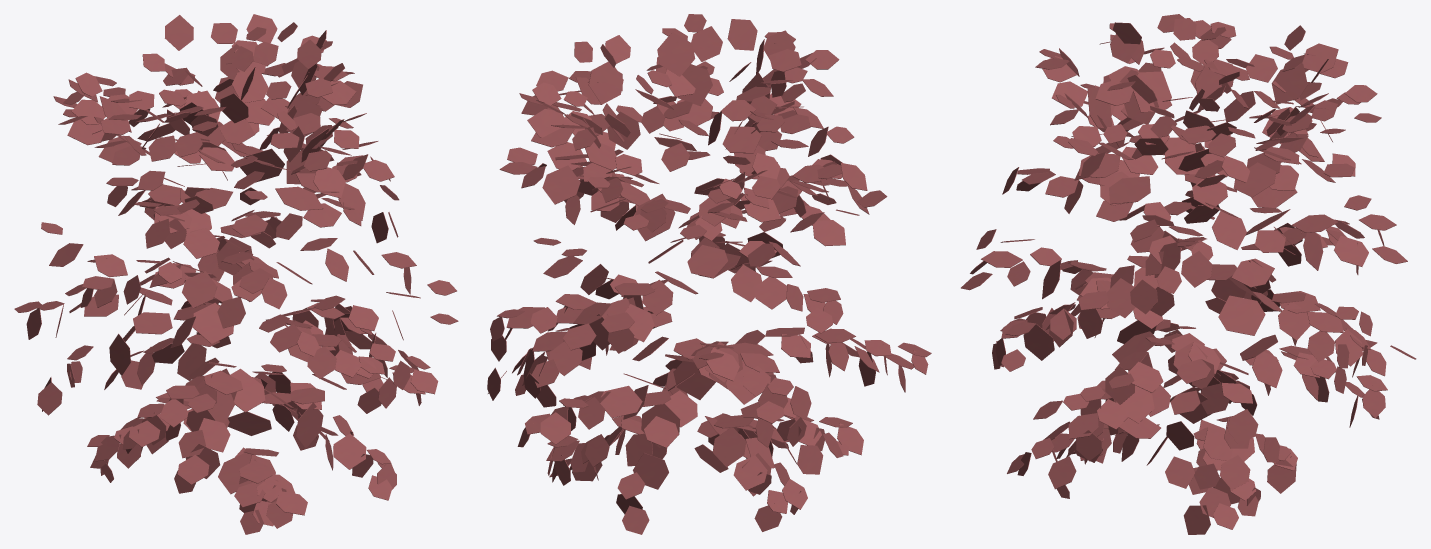
File: lvl1_leaves1.glb
3 views of the same model, side by side, from view 1: azimuth 30°, elevation 25°; view 2: azimuth 150°, elevation 25°; view 3: azimuth 270°, elevation 25° (orthographic). The views are drawn at different scales.
Visible parts, largest first — view 1: leaves.004; view 2: leaves.004; view 3: leaves.004.
Part boxes in pixels (x1,y1,x2,y2): leaves.004: (14, 14, 458, 534); leaves.004: (487, 14, 931, 534); leaves.004: (961, 14, 1416, 534).
Size of the model in its own units: 12.44 by 15.19 by 13.67.
1 material, 1 textured.
